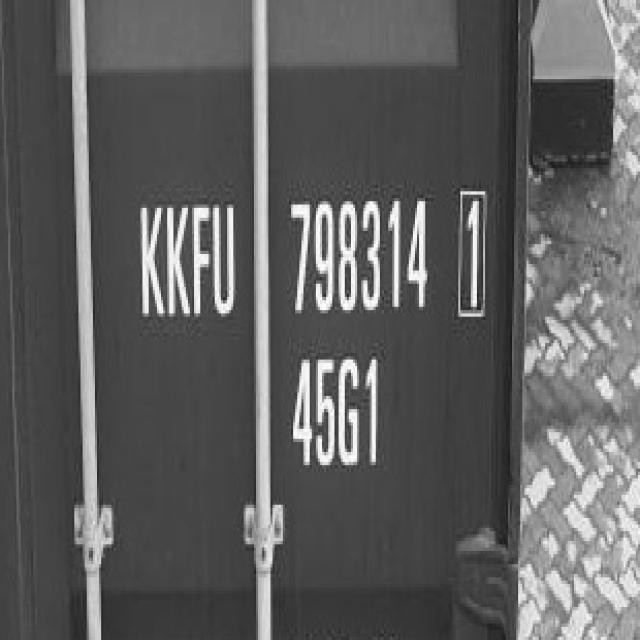dv: (448, 174, 494, 340)
owner: (133, 190, 241, 333)
serial: (284, 190, 436, 328)
size: (285, 346, 386, 482)
